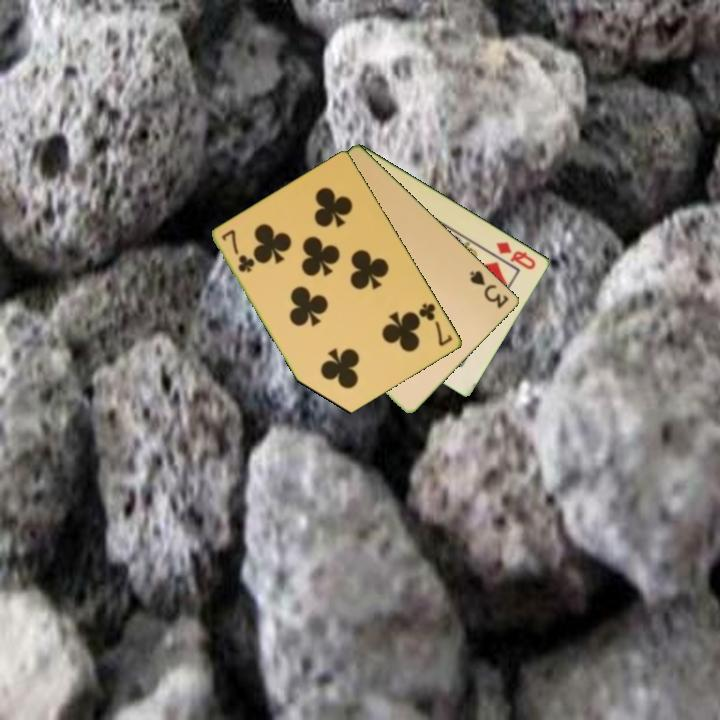3s: (466, 267, 512, 311)
7c: (415, 299, 456, 349), (218, 226, 258, 275)
Qd: (493, 238, 539, 273)
